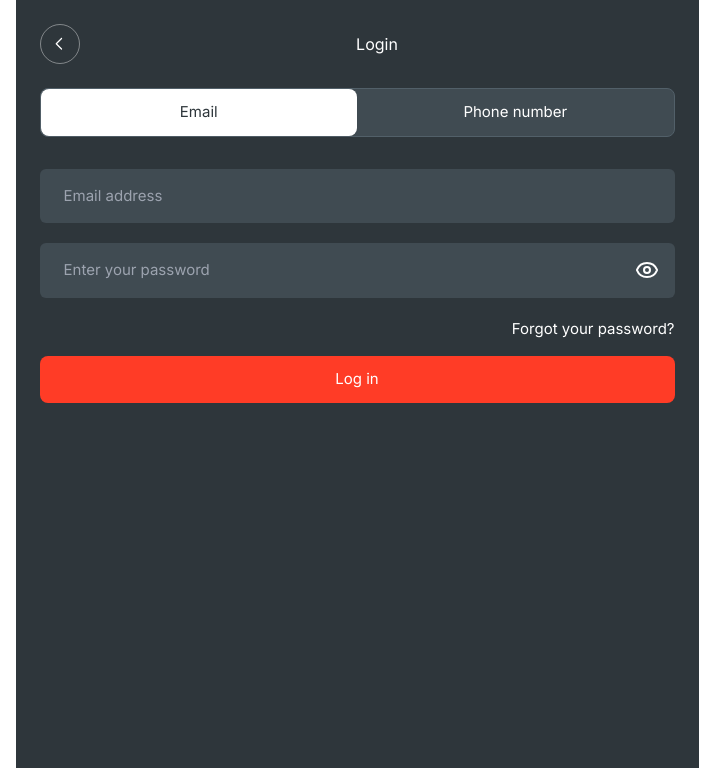
Test: Login Page › shows error messages with invalid email
Type "invalid-email@mail" into the field with placeholder "Email address" at (358, 197), box [40,169,675,224]
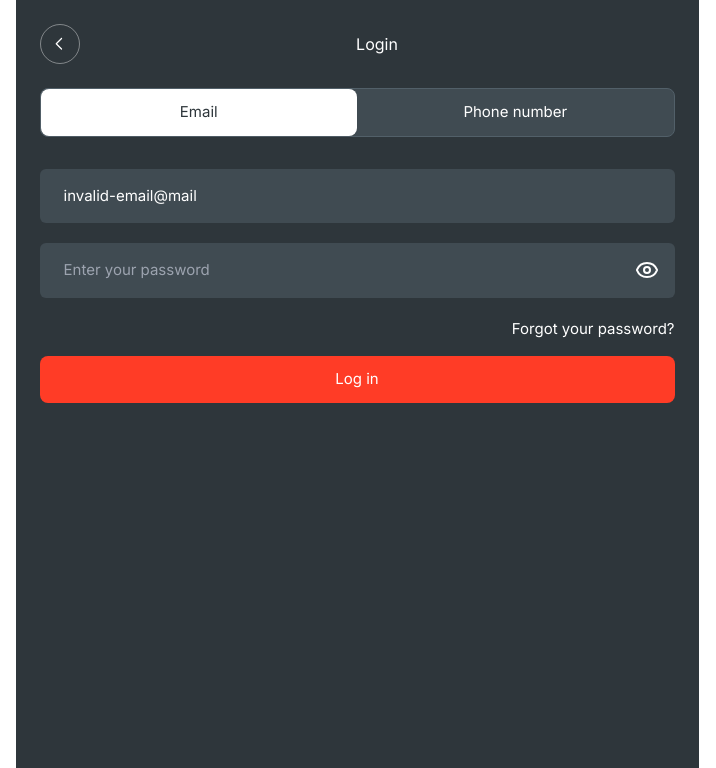
Type "password123" into the password field with placeholder "Enter your password" at (358, 271), box [40,243,675,298]
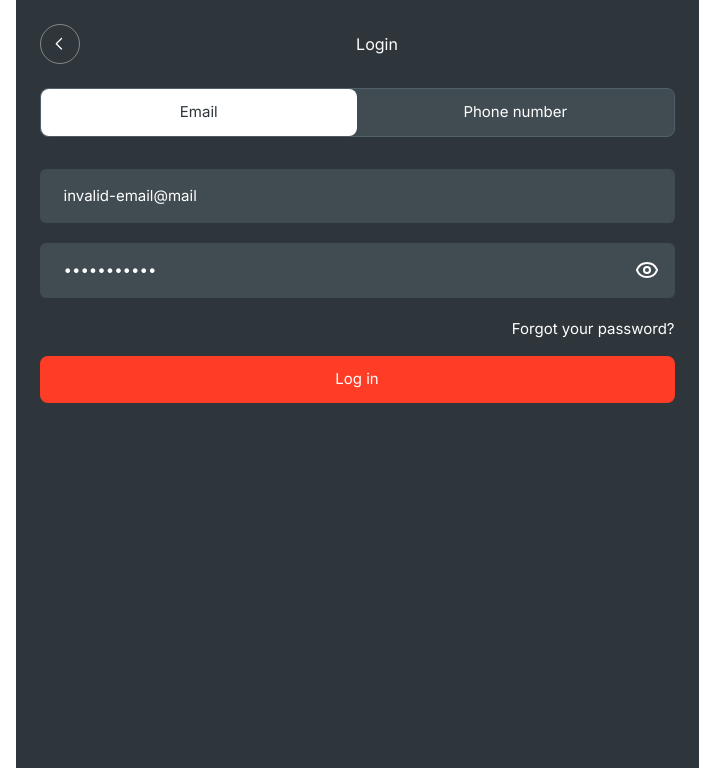
Click the button "Log in" at (358, 380), box [40,356,675,403]
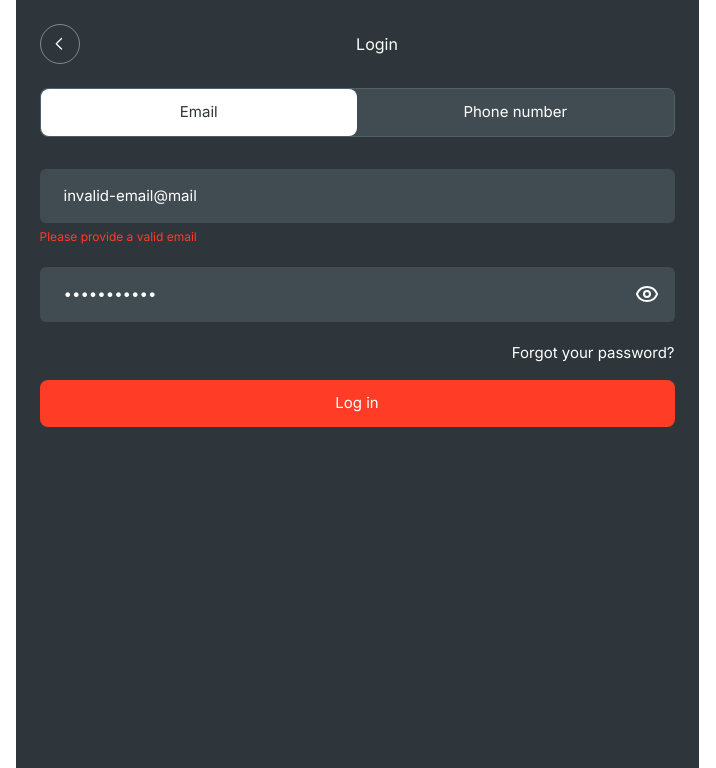
Check: the text "Please provide a valid email" is shown, box [40,229,197,244]
